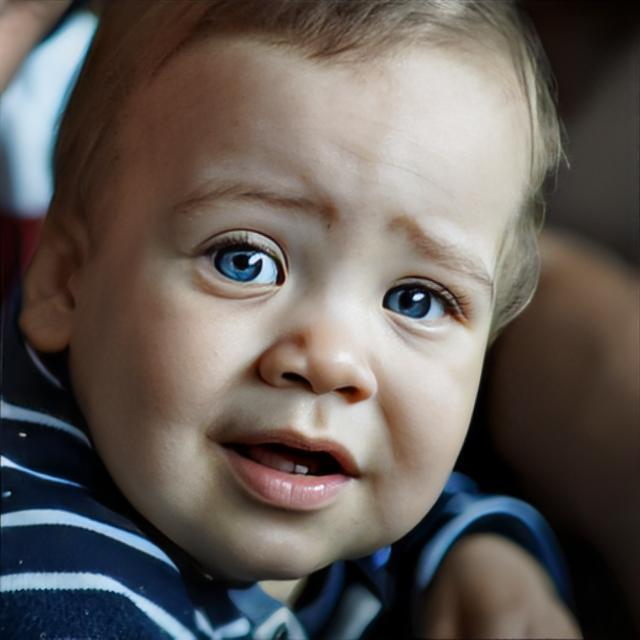Fear: (71, 1, 528, 582)
